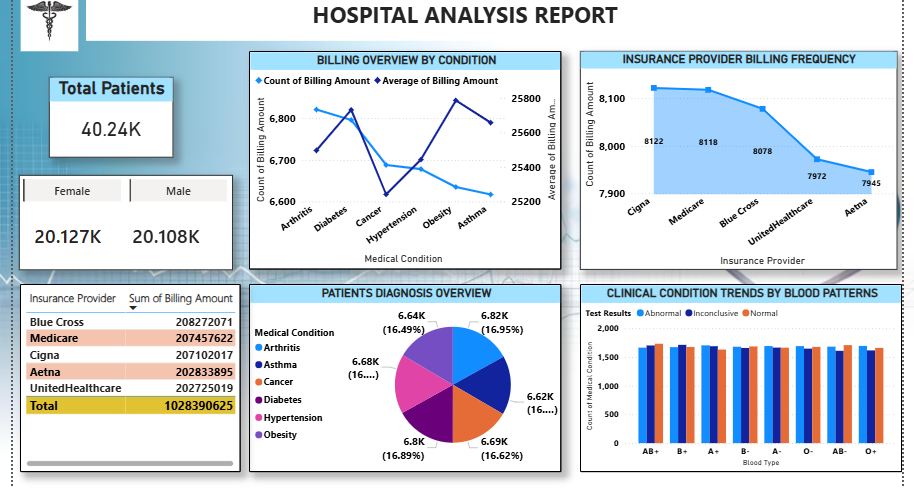

This screenshot's page, from the dashboard's own definition file:
{"tool":"powerbi","page":{"name":"Page 1","canvas":[1280,720],"ordinal":0},"visuals":[{"type":"textbox","box":[104.4,0,1175,66.2],"z":0},{"type":"image","box":[0,0,104.4,80.9],"z":1000},{"type":"pieChart","title":"PATIENTS DIAGNOSIS OVERVIEW","fields":{"Y":["CountNonNull(healthcare_dataset.Condition)","select"],"Series":["healthcare_dataset.Medical Condition"]},"box":[340,415.7,450.1,271.1],"z":2000},{"type":"lineChart","title":"BILLING OVERVIEW BY CONDITION","fields":{"Category":["healthcare_dataset.Medical Condition"],"Y":["Count(healthcare_dataset.Billing Amount)"],"Y2":["Avg(healthcare_dataset.Billing Amount)"]},"box":[340,81.2,450.1,315.2],"z":3000},{"type":"stackedAreaChart","title":"INSURANCE PROVIDER BILLING FREQUENCY","fields":{"Category":["healthcare_dataset.Insurance Provider"],"Y":["Count(healthcare_dataset.Billing Amount)"]},"box":[816.2,81.2,456.9,315.2],"z":4000},{"type":"card","title":"Total Patients","fields":{"Values":["Count(healthcare_dataset.Name)"]},"box":[52.3,118.4,178.9,115.6],"z":5000},{"type":"cardVisual","fields":{"Rows":["healthcare_dataset.Gender"],"Data":["CountNonNull(healthcare_dataset.Gender)","select"]},"box":[9.2,259.2,307.6,137.5],"z":6000},{"type":"lineClusteredColumnComboChart","title":"CLINICAL CONDITION TRENDS BY BLOOD PATTERNS","fields":{"Category":["healthcare_dataset.Blood Type"],"Y":["CountNonNull(healthcare_dataset.Medical Condition)"],"Series":["healthcare_dataset.Test Results"]},"box":[816.2,415.7,463.8,271.1],"z":7000},{"type":"tableEx","fields":{"Values":["healthcare_dataset.Insurance Provider","Sum(healthcare_dataset.Billing Amount)"]},"box":[9.6,415.7,317.9,271.1],"z":8001}]}

Visuals, with their boxes in screenshot pixels (x1, y1, x2, y2):
textbox: <region>84, 0, 898, 39</region>
image: <region>12, 0, 84, 49</region>
"PATIENTS DIAGNOSIS OVERVIEW" pieChart: <region>247, 281, 559, 469</region>
"BILLING OVERVIEW BY CONDITION" lineChart: <region>247, 49, 559, 268</region>
"INSURANCE PROVIDER BILLING FREQUENCY" stackedAreaChart: <region>577, 49, 894, 268</region>
"Total Patients" card: <region>48, 75, 172, 155</region>
cardVisual - healthcare_dataset.Gender x CountNonNull(healthcare_dataset.Gender): <region>18, 172, 231, 268</region>
"CLINICAL CONDITION TRENDS BY BLOOD PATTERNS" lineClusteredColumnComboChart: <region>577, 281, 899, 469</region>
tableEx - healthcare_dataset.Insurance Provider x Sum(healthcare_dataset.Billing Amount): <region>19, 281, 239, 469</region>
